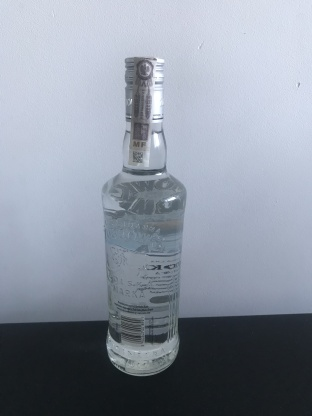nakretka: (120, 50, 167, 125)
